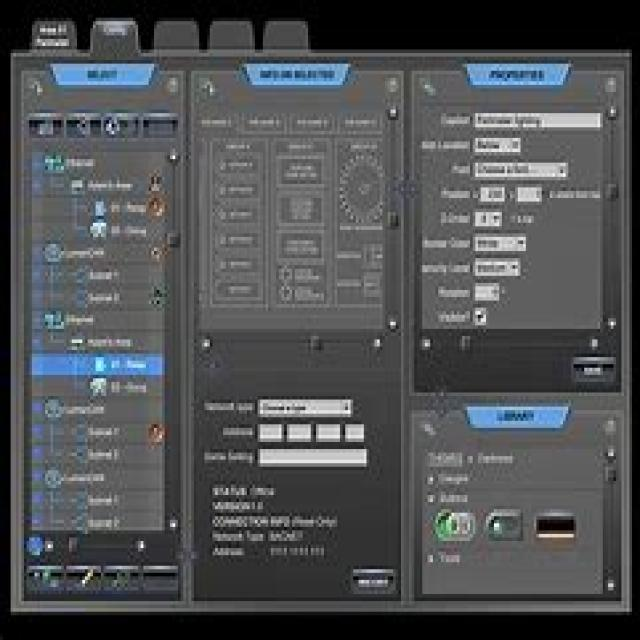button: (435, 506, 480, 547), (350, 566, 400, 598), (484, 506, 523, 546), (534, 511, 575, 548), (105, 562, 141, 594), (66, 562, 104, 592), (27, 564, 65, 592), (142, 564, 180, 592)
dropdownMenu: (257, 396, 354, 418), (474, 158, 569, 179), (472, 232, 528, 254), (474, 258, 523, 278), (474, 209, 504, 229), (472, 305, 488, 327)
input: (474, 111, 604, 131), (257, 448, 370, 470), (472, 136, 522, 155), (515, 186, 544, 207), (478, 183, 506, 203), (316, 423, 343, 442), (258, 423, 284, 442), (287, 424, 314, 442), (345, 423, 367, 442)
slider: (167, 136, 180, 534), (197, 329, 385, 356), (385, 71, 404, 335), (605, 69, 622, 334), (417, 329, 606, 351), (602, 411, 624, 600), (42, 534, 182, 560)
tabControl: (7, 12, 332, 60), (22, 106, 181, 140)
